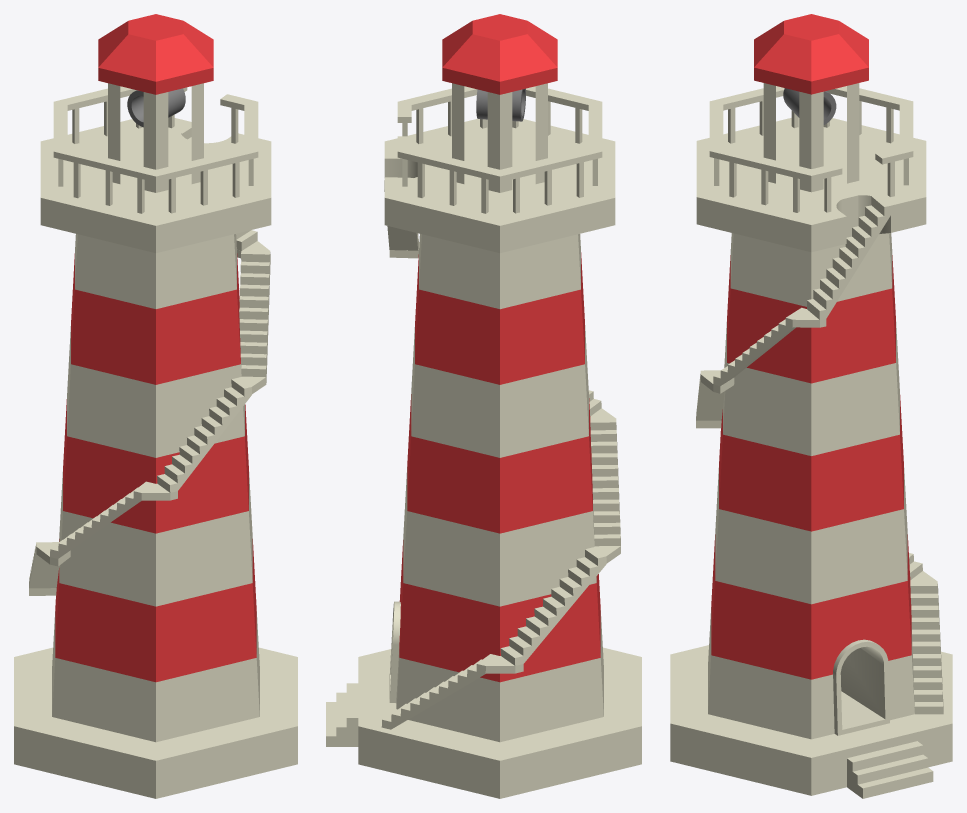
Rendered from lighthouse.dae.
The picture shows the model from 3 angles, left to right: view 1: azimuth 30°, elevation 25°; view 2: azimuth 150°, elevation 25°; view 3: azimuth 270°, elevation 25°; orthographic projection.
Parts seen in each view (by area): view 1: lighthouse; view 2: lighthouse; view 3: lighthouse.
Part boxes in pixels (left/top/right/bottom): lighthouse: left=14, top=14, right=297, bottom=798; lighthouse: left=326, top=14, right=641, bottom=798; lighthouse: left=670, top=14, right=952, bottom=798.
Size of the model in its own units: 100 by 84.93 by 232.
